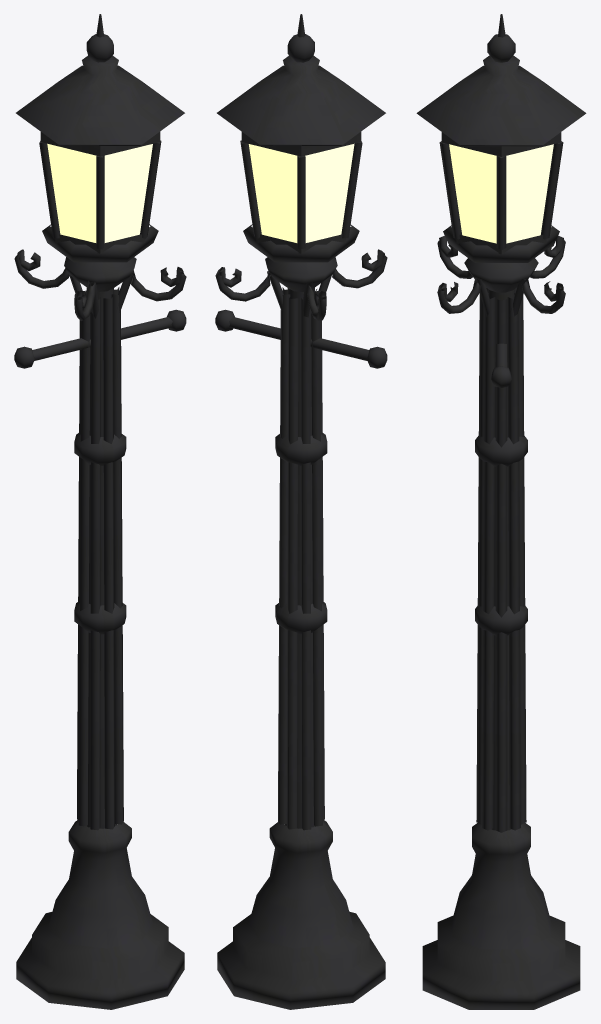
Rendered from lamp_post.glb.
The picture shows the model from 3 angles, left to right: view 1: azimuth 30°, elevation 25°; view 2: azimuth 150°, elevation 25°; view 3: azimuth 270°, elevation 25°; orthographic projection.
Parts seen in each view (by area): view 1: prop; view 2: prop; view 3: prop.
Boxes of the visible parts, x1,y1,x2,y2 form: prop: (14, 14, 186, 1009); prop: (215, 14, 387, 1009); prop: (416, 14, 586, 1009).
Size of the model in its own units: 0.374 by 1.99 by 0.3199.
Materials: 2 (1 with a texture image).
